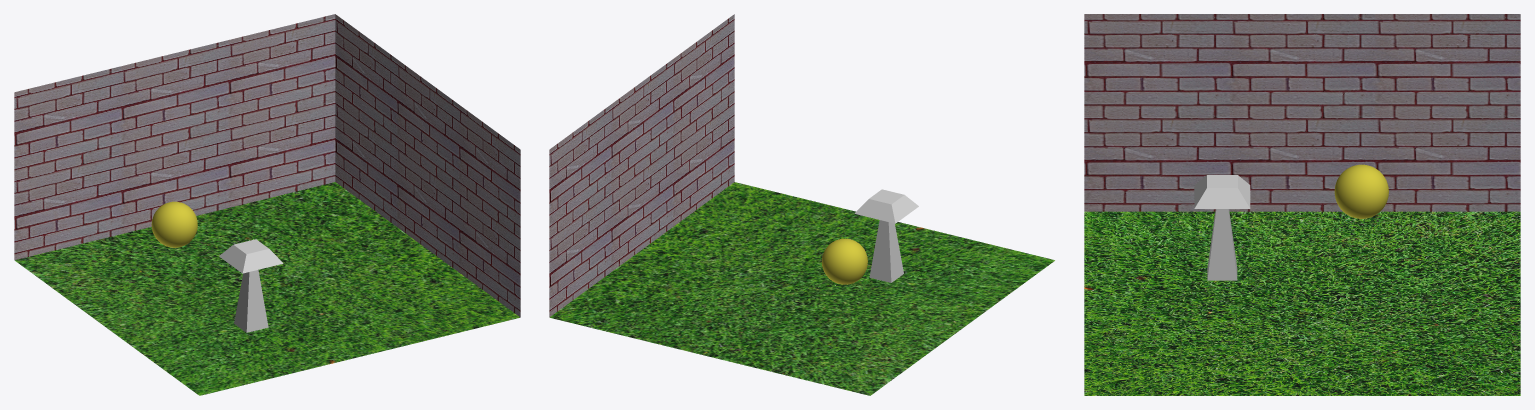
File: Ejemplo 1.gltf
The picture shows the model from 3 angles, left to right: view 1: azimuth 30°, elevation 25°; view 2: azimuth 150°, elevation 25°; view 3: azimuth 270°, elevation 25°; orthographic projection. The views are drawn at different scales.
Parts seen in each view (by area): view 1: Suelo, Pared2, Pared3, Cube, Sphere; view 2: Suelo, Pared3, Cube, Sphere; view 3: Pared1, Suelo, Cube, Sphere.
Part boxes in pixels (x1,y1,x2,y2): Suelo: (15, 182, 519, 395); Pared2: (14, 14, 335, 260); Pared3: (335, 14, 520, 317); Cube: (219, 239, 283, 332); Sphere: (151, 201, 197, 247); Suelo: (550, 182, 1054, 395); Pared3: (549, 14, 734, 317); Cube: (854, 189, 918, 282); Sphere: (821, 238, 867, 284); Pared1: (1084, 14, 1520, 211); Suelo: (1084, 211, 1520, 395); Cube: (1194, 175, 1250, 280); Sphere: (1334, 164, 1388, 218).
Bounding box in the file's own units: 16.01 × 8 × 16.01.
Materials: 4 (2 with a texture image).
